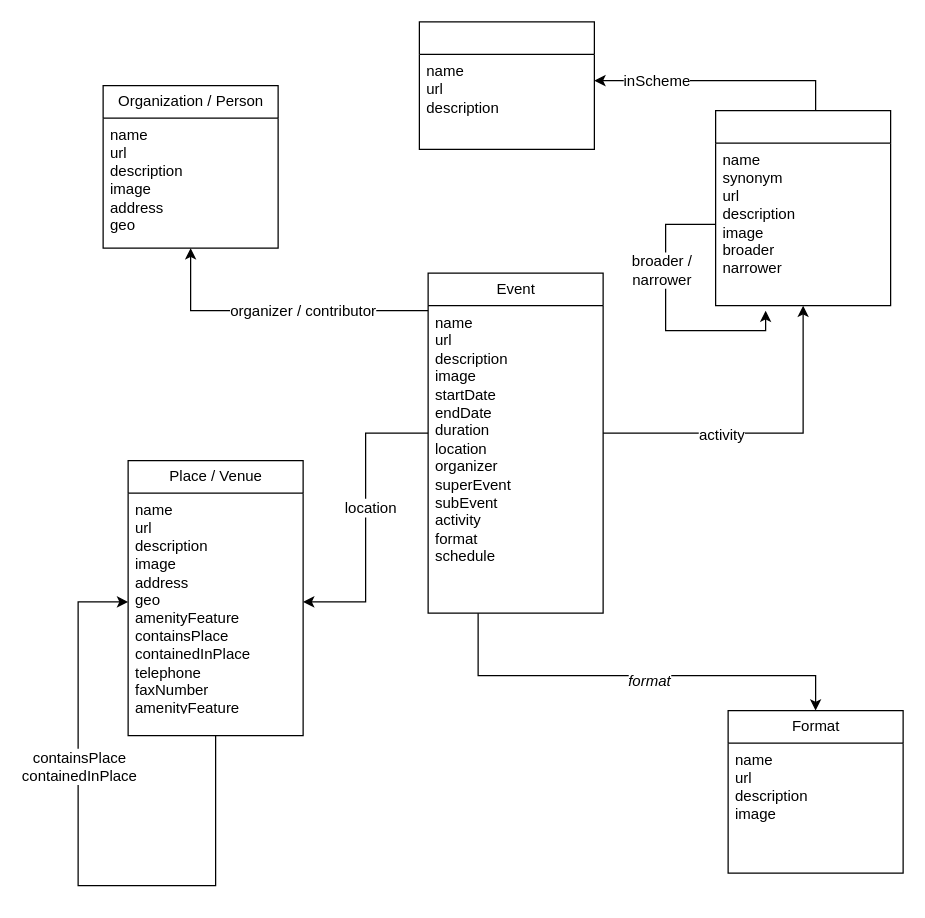
This 925x918 diagram has some shape labels left out. The shapes that lost their labels are listed below. From the top down, each one's box as (x1, y1, x2, y2) in pixels, then its label:
(418, 21, 594, 149): Activity List
(714, 109, 891, 306): Physical Activity
